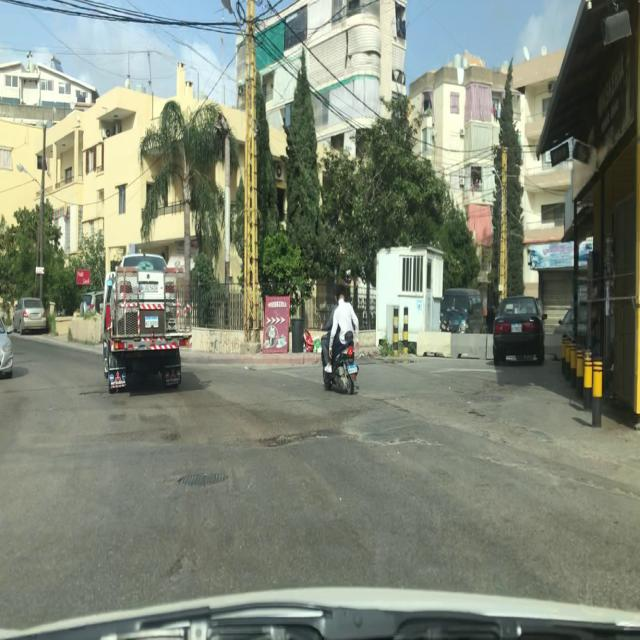Pothole: (252, 429, 322, 454), (78, 389, 107, 398)
